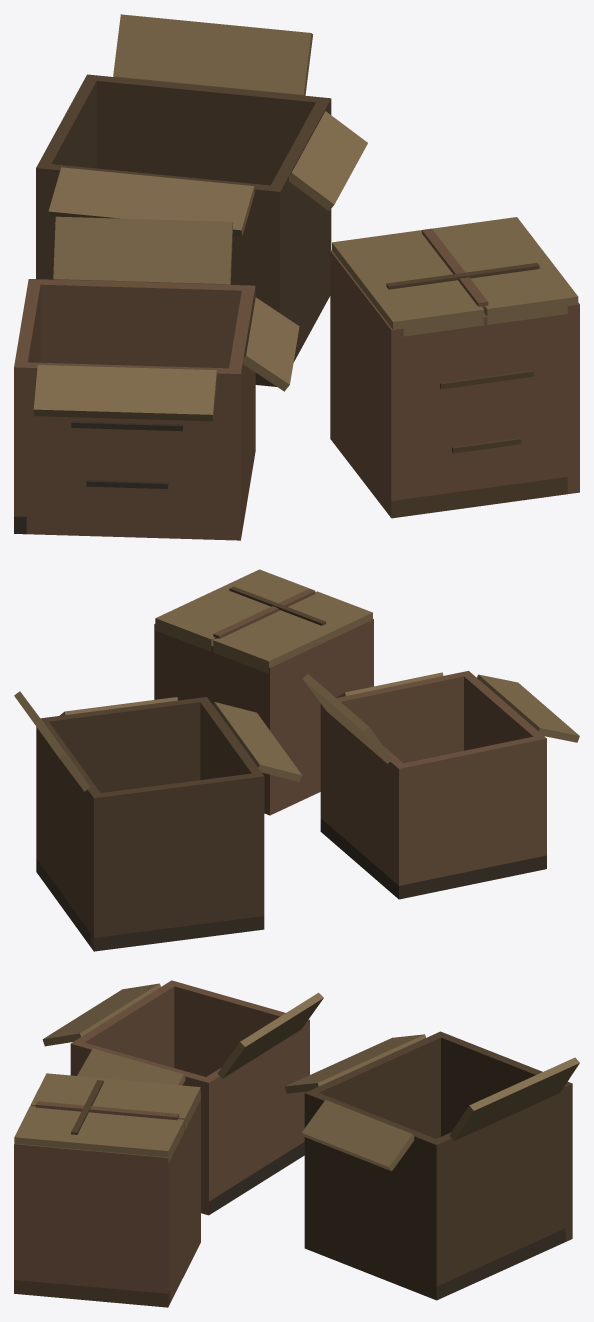
The model's file is CMU3DDecorFloorCardboardSouth.glb.
3 renders of one model, top to bottom at view 1: azimuth 30°, elevation 25°; view 2: azimuth 150°, elevation 25°; view 3: azimuth 270°, elevation 25°, orthographic. The views are drawn at different scales.
Parts seen in each view (by area): view 1: carton 3 front wall, carton 2 front wall, carton 1 back wall, carton 2 back wall, carton 3 left wall, carton 1 raised back flap, carton 2 raised back flap, carton 1 right wall, carton 2 folded front flap, carton 3 closed lid half -1, carton 1 folded front flap, carton 3 closed lid half 1 (+12 smaller); view 2: carton 1 left wall, carton 2 left wall, carton 1 right wall, carton 3 left wall, carton 2 right wall, carton 2 back wall, carton 1 back wall, carton 3 closed lid half -1, carton 3 back wall, carton 3 closed lid half 1, carton 2 front wall, carton 2 recessed bottom (+10 smaller); view 3: carton 3 right wall, carton 1 right wall, carton 1 back wall, carton 2 back wall, carton 1 front wall, carton 2 left wall, carton 1 left wall, carton 3 closed lid half 1, carton 3 closed lid half -1, carton 2 front wall, carton 1 side flap, carton 3 back wall (+12 smaller).
Boxes of the visible parts, box(x1,y1,x2,y2) form: carton 3 front wall: box(403, 313, 567, 499); carton 2 front wall: box(26, 362, 228, 540); carton 1 back wall: box(96, 75, 318, 185); carton 2 back wall: box(40, 279, 242, 368); carton 3 left wall: box(330, 250, 403, 517); carton 1 raised back flap: box(113, 14, 312, 95); carton 2 raised back flap: box(53, 216, 233, 284); carton 1 right wall: box(267, 97, 331, 362); carton 2 folded front flap: box(33, 365, 216, 421); carton 3 closed lid half -1: box(332, 230, 483, 336); carton 1 folded front flap: box(48, 167, 254, 236); carton 3 closed lid half 1: box(432, 217, 578, 324); carton 1 left wall: box(91, 772, 264, 951); carton 2 left wall: box(394, 734, 546, 885); carton 1 right wall: box(36, 697, 209, 861); carton 3 left wall: box(262, 619, 373, 815); carton 2 right wall: box(320, 671, 472, 821); carton 2 back wall: box(325, 710, 402, 881); carton 1 back wall: box(39, 721, 100, 933); carton 3 closed lid half -1: box(213, 591, 372, 673); carton 3 back wall: box(162, 633, 262, 773); carton 3 closed lid half 1: box(155, 569, 314, 651); carton 2 front wall: box(464, 674, 541, 750); carton 2 recessed bottom: box(320, 818, 546, 899); carton 3 right wall: box(14, 1143, 170, 1293); carton 1 right wall: box(304, 1090, 443, 1300); carton 1 back wall: box(436, 1086, 565, 1283); carton 2 back wall: box(206, 1026, 304, 1197); carton 1 front wall: box(312, 1034, 440, 1138); carton 2 left wall: box(166, 980, 309, 1141); carton 1 left wall: box(434, 1031, 572, 1241); carton 3 closed lid half 1: box(14, 1106, 184, 1163); carton 3 closed lid half -1: box(30, 1073, 200, 1130); carton 2 front wall: box(76, 984, 174, 1067); carton 1 side flap: box(302, 1100, 414, 1171); carton 3 back wall: box(170, 1104, 198, 1302).
Size of the model in its own units: 0.7429 by 0.3394 by 0.8915.
